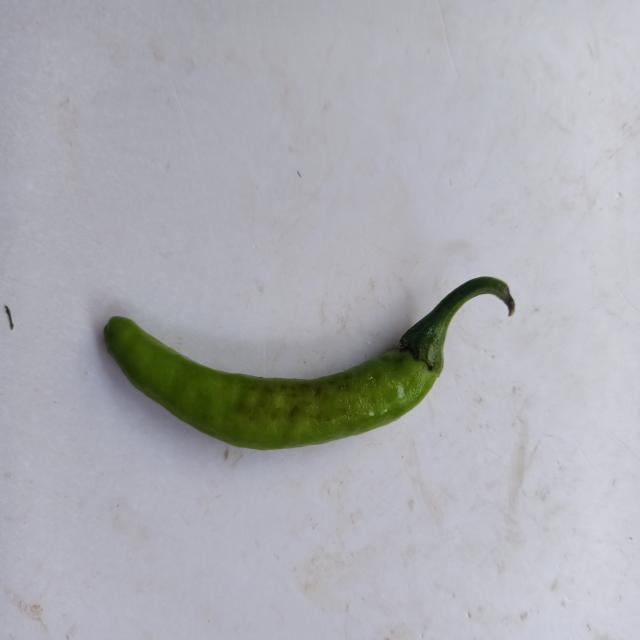Green Chilly: (103, 276, 516, 450)
